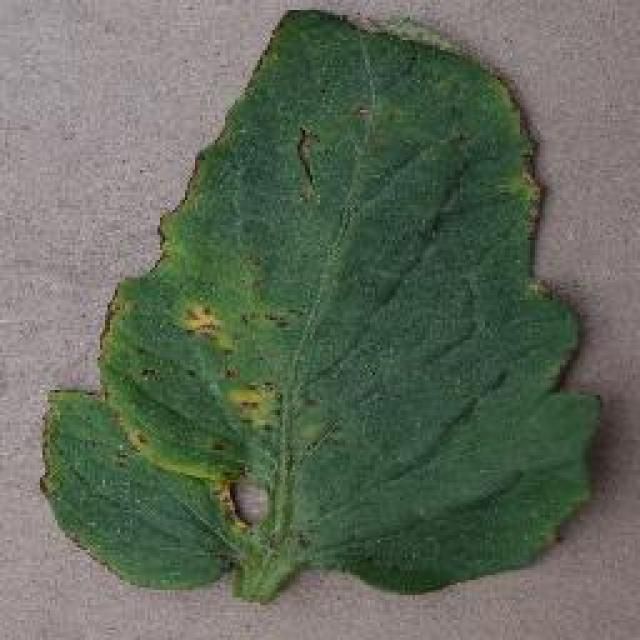Tomato bacterial spot leaf: (32, 1, 612, 618)
